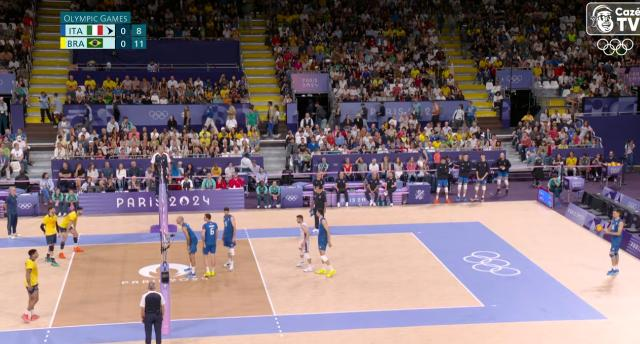Levantador: (200, 213, 218, 279), (44, 205, 60, 266)
Libero: (296, 215, 310, 271)
bola: (594, 224, 604, 232)
